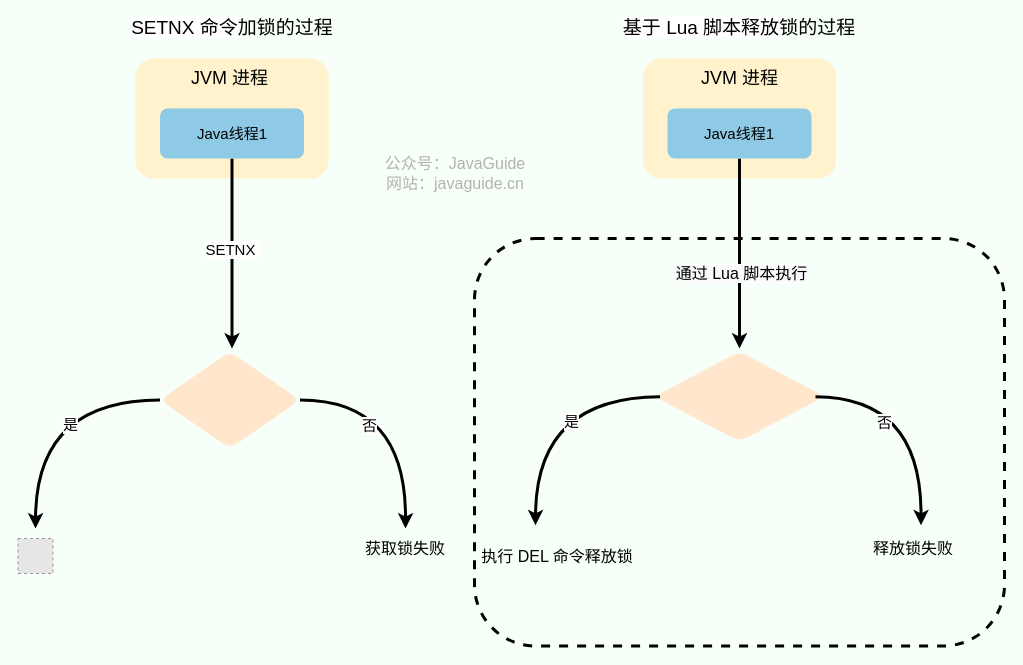
The diagram is 1023 pixels wide and 665 high, and some of its shapes have lost their labels. Grey dashed boxes stand in for pictures. Here are the shapes that lost their labels. From the top down, the centre of each, then its label:
At [230,399]: "对应的 key（锁） 是否存在".
At [739,396]: "判断 key（锁）对应 的 value 是否相等".
